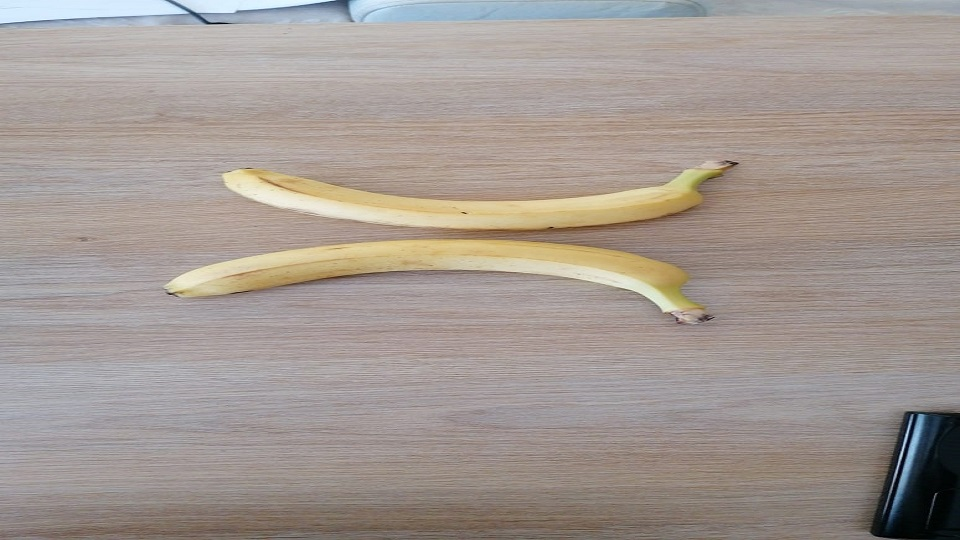muz: (164, 237, 714, 323), (223, 158, 738, 231)
